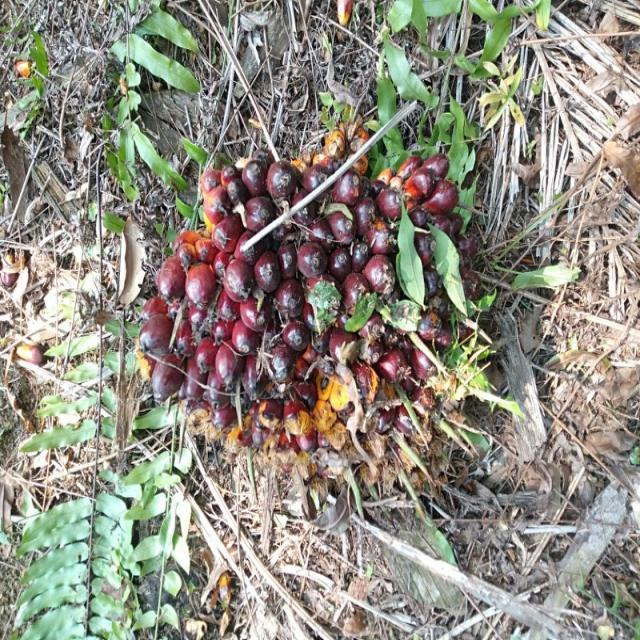fraksi 1: (142, 145, 478, 481)
